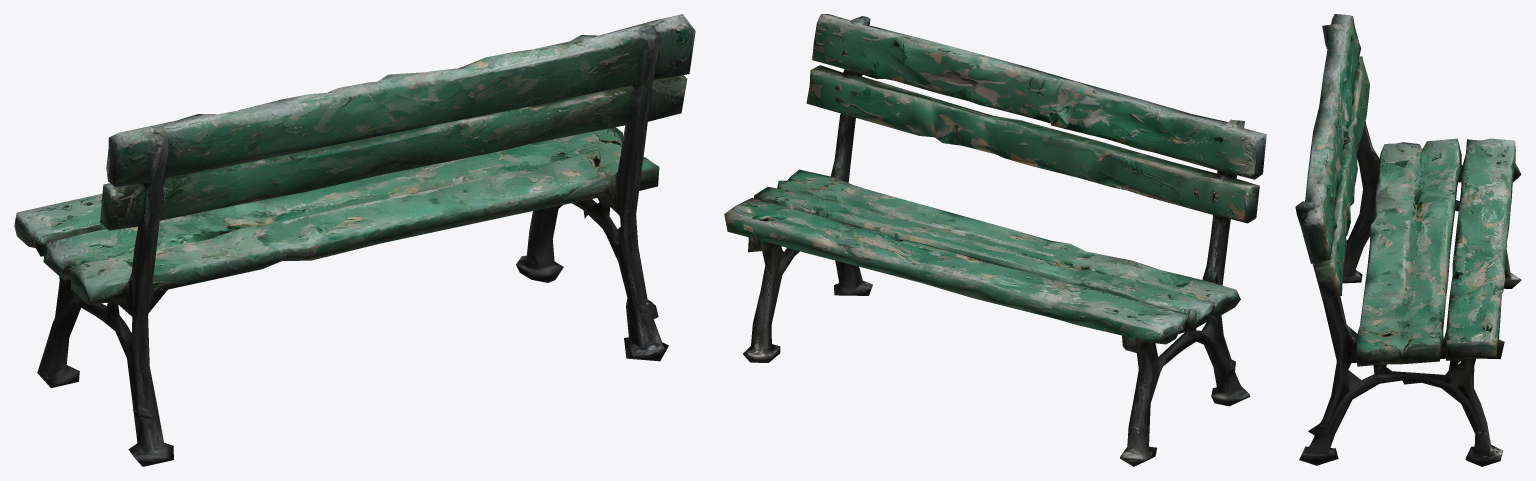
The model's file is sn_bench.glb.
The picture shows the model from 3 angles, left to right: view 1: azimuth 30°, elevation 25°; view 2: azimuth 150°, elevation 25°; view 3: azimuth 270°, elevation 25°; orthographic projection. The views are drawn at different scales.
Visible parts, largest first — view 1: tripo_node_bd593267-1cdb-4542-bb3b-a67286a45348; view 2: tripo_node_bd593267-1cdb-4542-bb3b-a67286a45348; view 3: tripo_node_bd593267-1cdb-4542-bb3b-a67286a45348.
Part boxes in pixels (x1,y1,x2,y2): tripo_node_bd593267-1cdb-4542-bb3b-a67286a45348: [14, 14, 695, 466]; tripo_node_bd593267-1cdb-4542-bb3b-a67286a45348: [724, 14, 1266, 466]; tripo_node_bd593267-1cdb-4542-bb3b-a67286a45348: [1295, 14, 1521, 466].
Size of the model in its own units: 1 by 0.5739 by 0.457.
1 material, 1 textured.
